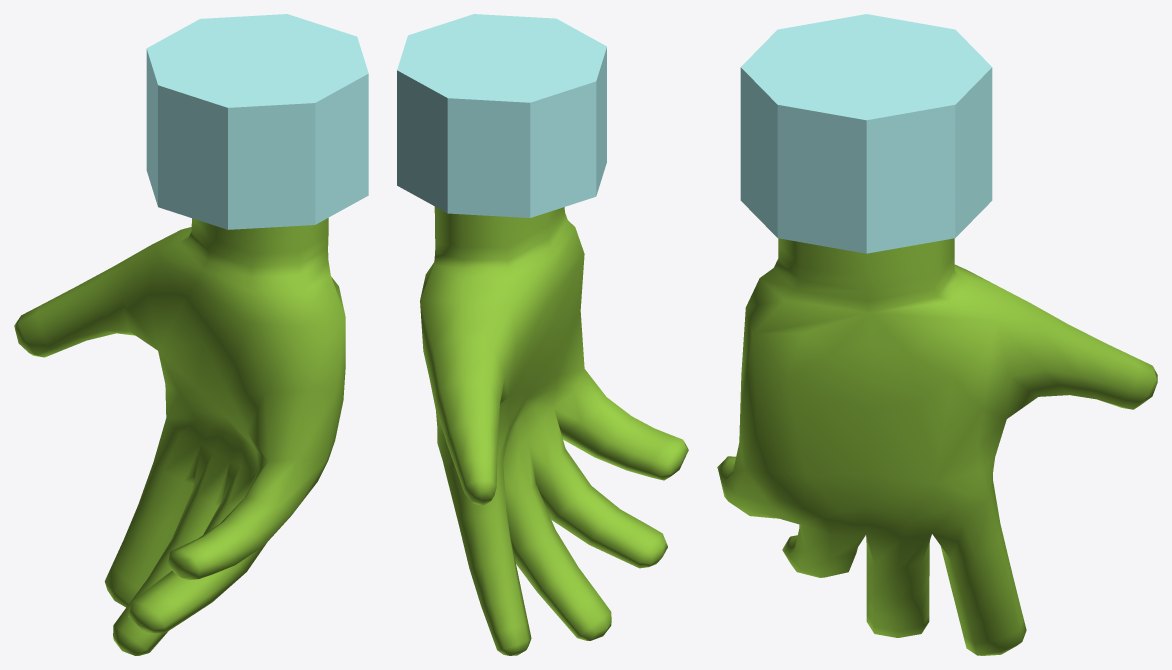
The model's file is hand.glb.
3 renders of one model, left to right at view 1: azimuth 30°, elevation 25°; view 2: azimuth 150°, elevation 25°; view 3: azimuth 270°, elevation 25°, orthographic. The views are drawn at different scales.
Parts seen in each view (by area): view 1: Hand, Cylinder; view 2: Hand, Cylinder; view 3: Hand, Cylinder.
Boxes of the visible parts, <box> form: Hand: <box>14,218,345,655</box>; Cylinder: <box>146,14,368,229</box>; Hand: <box>420,206,688,655</box>; Cylinder: <box>397,14,606,217</box>; Hand: <box>717,238,1157,655</box>; Cylinder: <box>740,14,992,253</box>.
Bounding box in the file's own units: 0.112 × 0.2517 × 0.1594.
